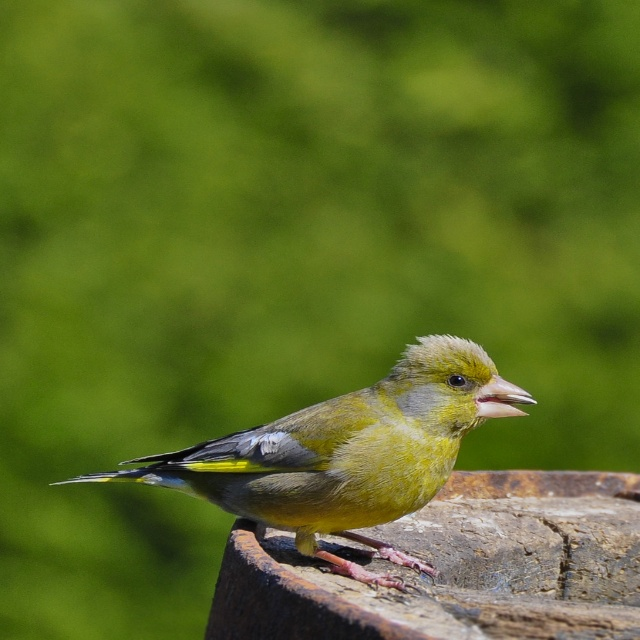Canary: (51, 333, 541, 593)
